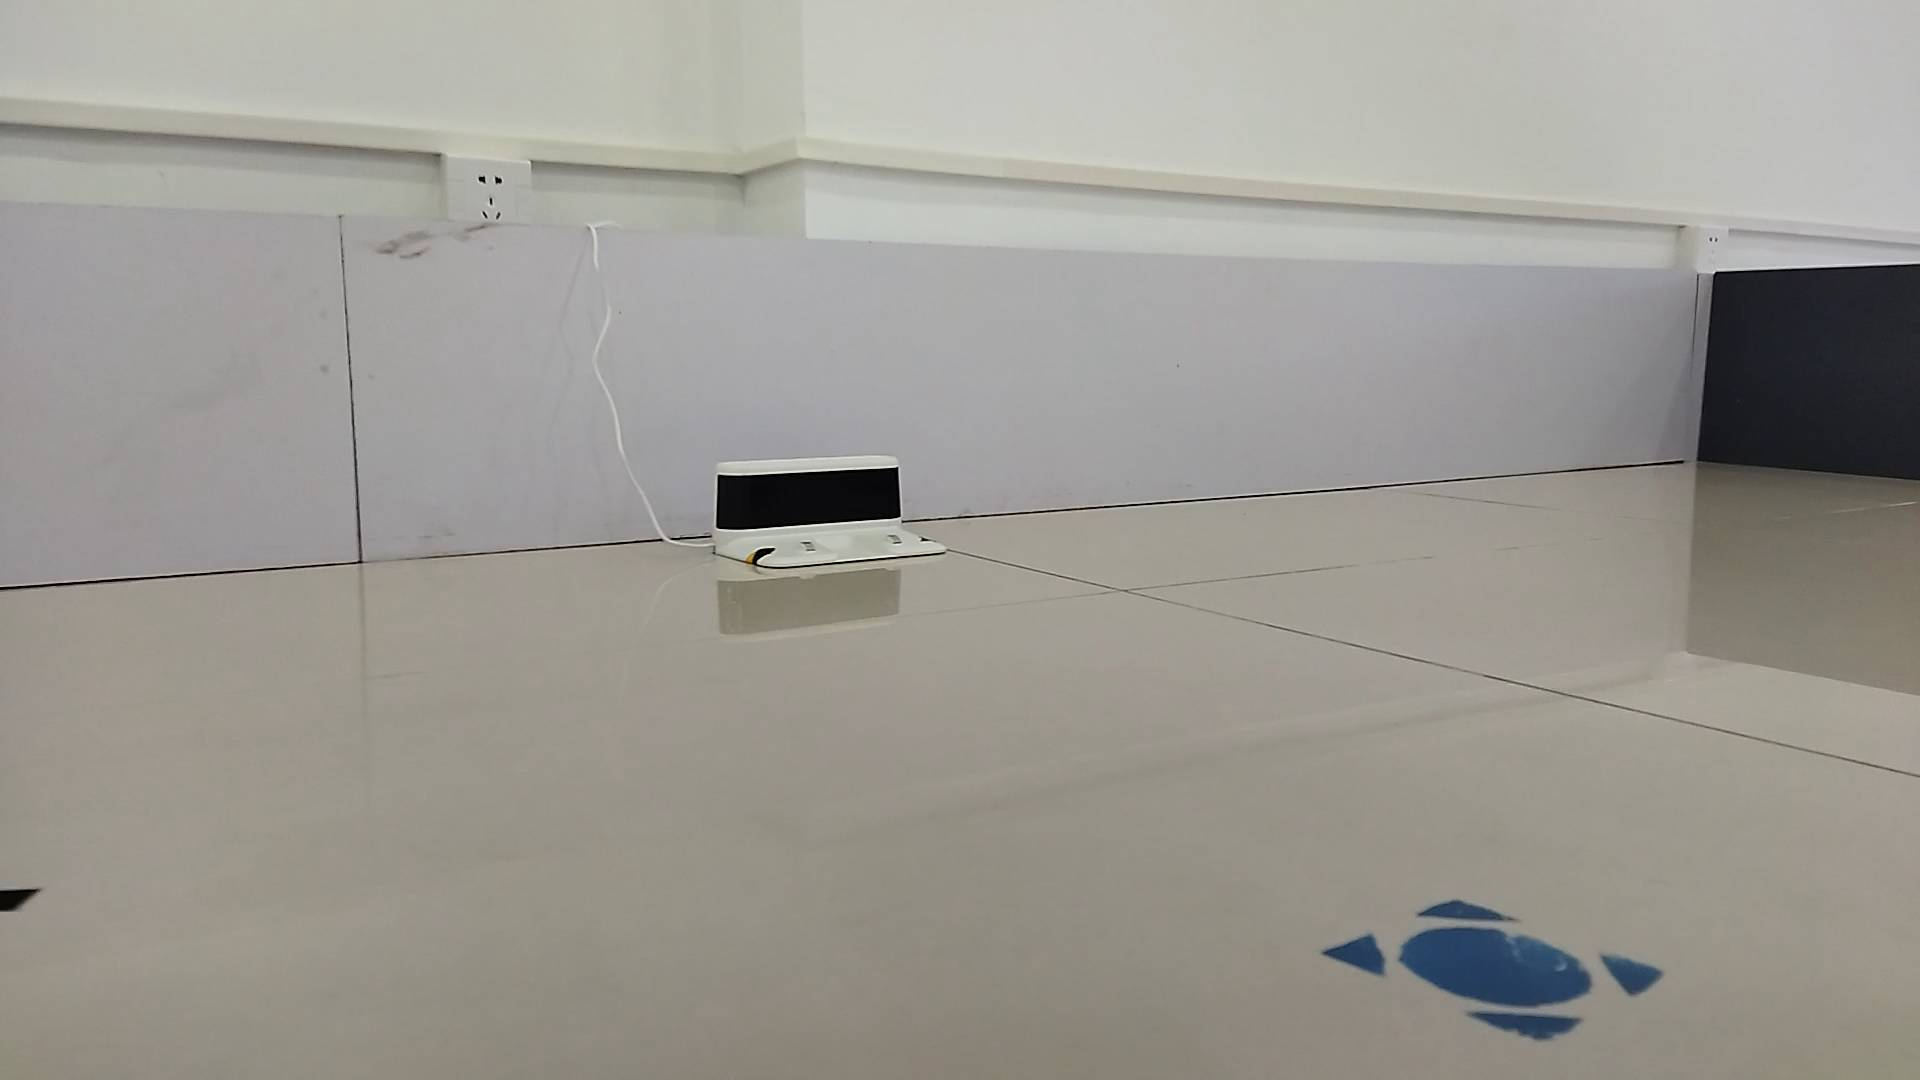recharge seat: (713, 456, 961, 568)
